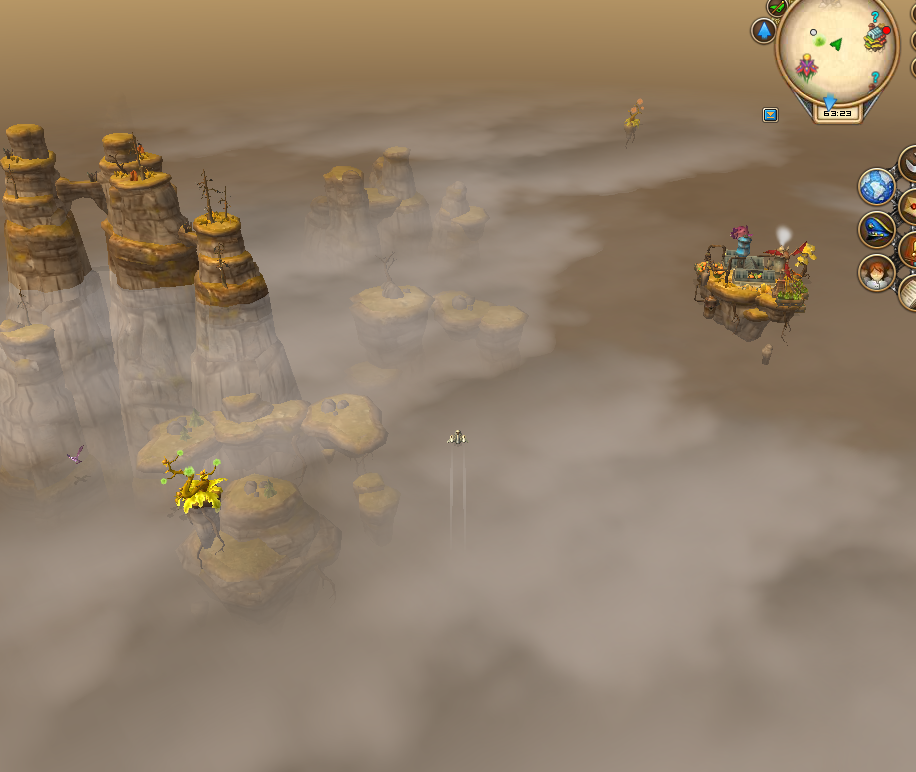dandelion-full: (159, 445, 228, 557), (618, 93, 648, 145)
